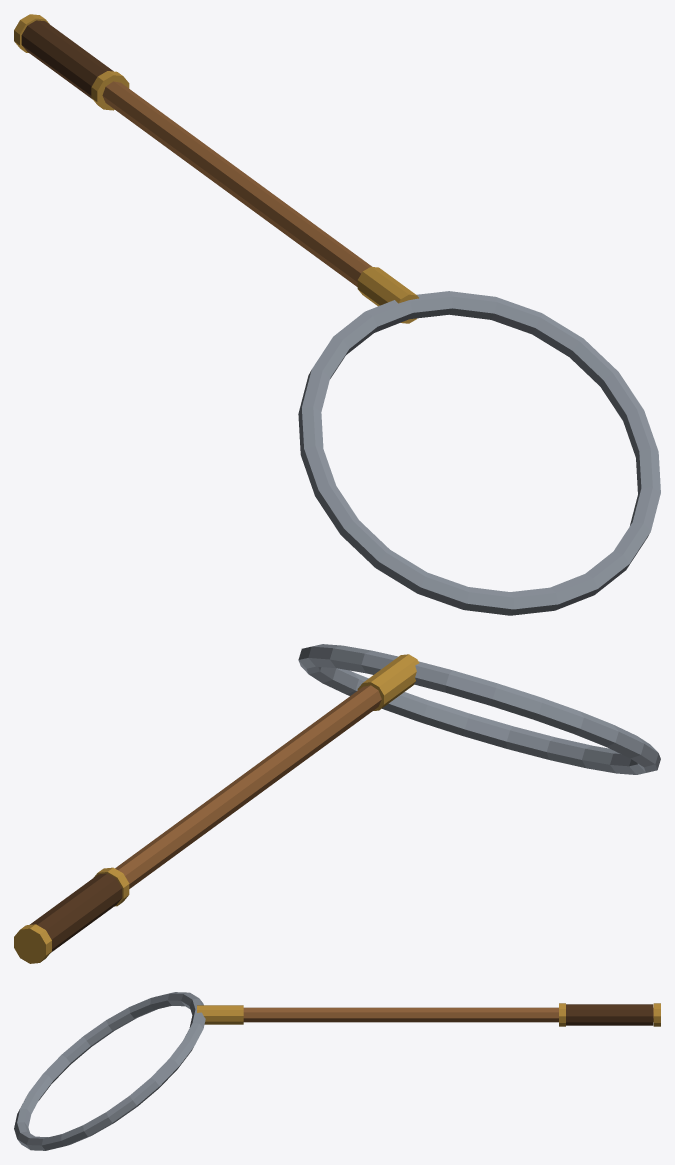
The model's file is HandNet.obj.
3 views of the same model, one above another, from view 1: azimuth 30°, elevation 25°; view 2: azimuth 150°, elevation 25°; view 3: azimuth 270°, elevation 25° (orthographic). The views are drawn at different scales.
Parts seen in each view (by area): view 1: HandNet; view 2: HandNet; view 3: HandNet.
Part boxes in pixels (x1=…): HandNet: x1=14, y1=14, x2=660, y2=615; HandNet: x1=14, y1=644, x2=660, y2=963; HandNet: x1=14, y1=992, x2=660, y2=1150.
Size of the model in its own units: 0.4442 by 0.2766 by 1.25.
